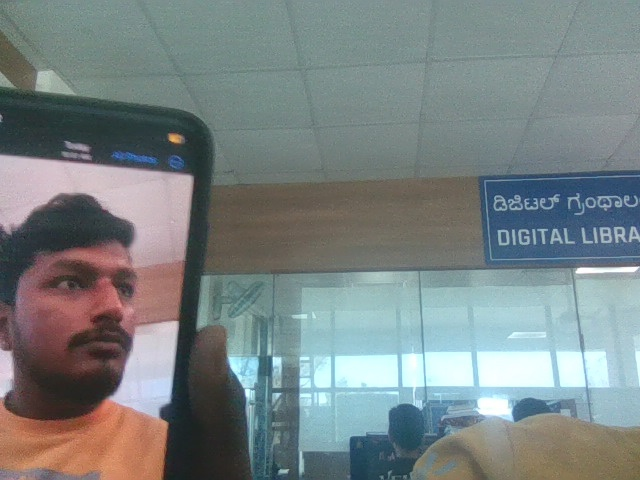fake: (2, 168, 166, 400)
